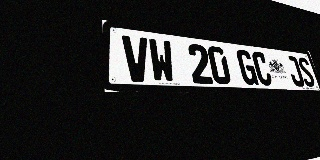0: (206, 45, 232, 84)
2: (187, 43, 213, 84)
C: (251, 51, 273, 86)
G: (235, 49, 259, 85)
J: (285, 55, 305, 87)
S: (296, 57, 316, 87)
V: (122, 35, 151, 82)
W: (148, 38, 176, 83)
